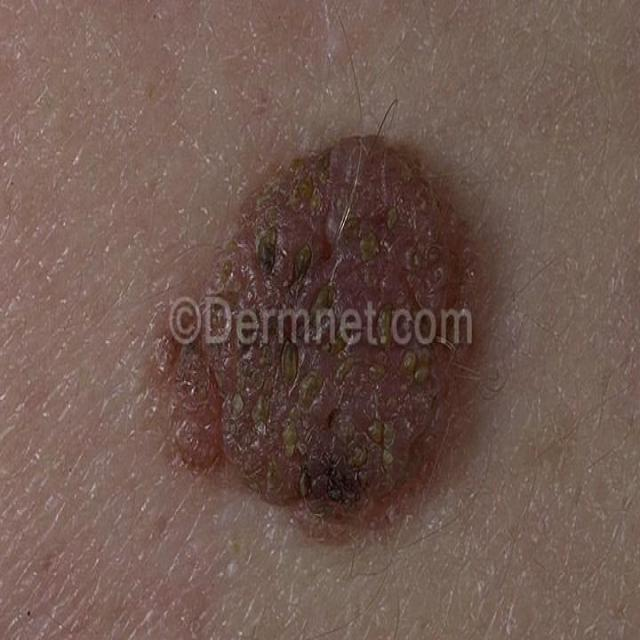Eczema: (155, 104, 467, 549)
